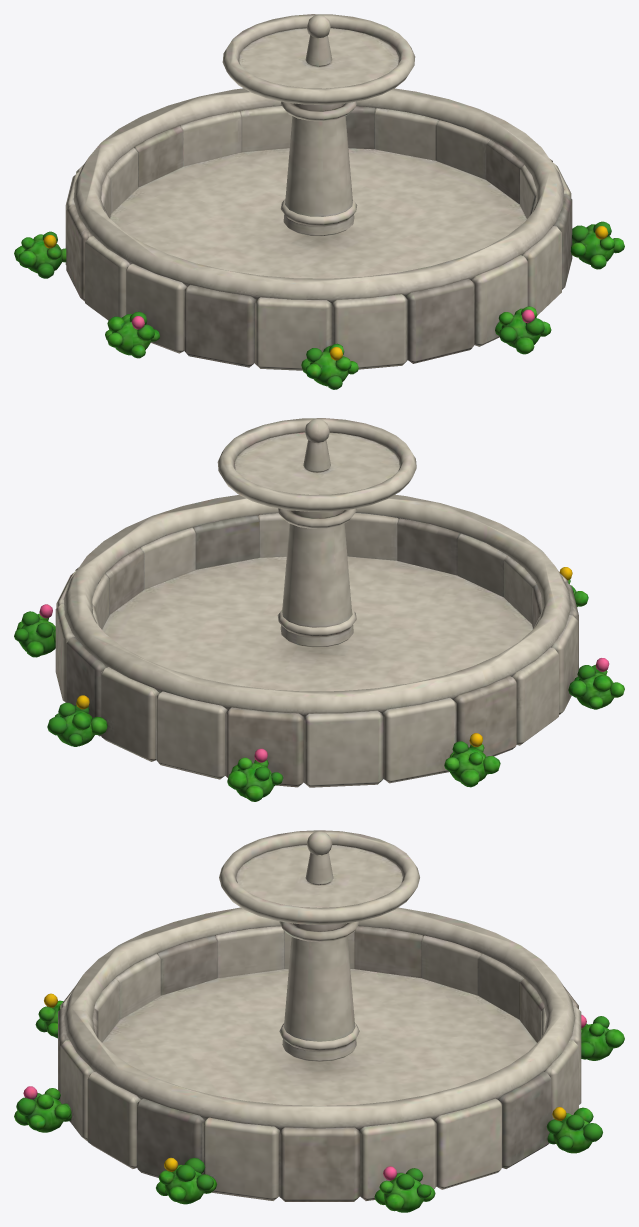
The model's file is fountain.glb.
3 views of the same model, one above another, from view 1: azimuth 30°, elevation 25°; view 2: azimuth 150°, elevation 25°; view 3: azimuth 270°, elevation 25° (orthographic). The views are drawn at different scales.
Parts seen in each view (by area): view 1: fountain; view 2: fountain; view 3: fountain.
Part boxes in pixels (bbox=[...]): fountain: bbox=[14, 14, 624, 389]; fountain: bbox=[14, 418, 624, 801]; fountain: bbox=[14, 830, 624, 1212].
Size of the model in its own units: 2.13 by 1.01 by 2.13.
Materials: 1 (1 with a texture image).
